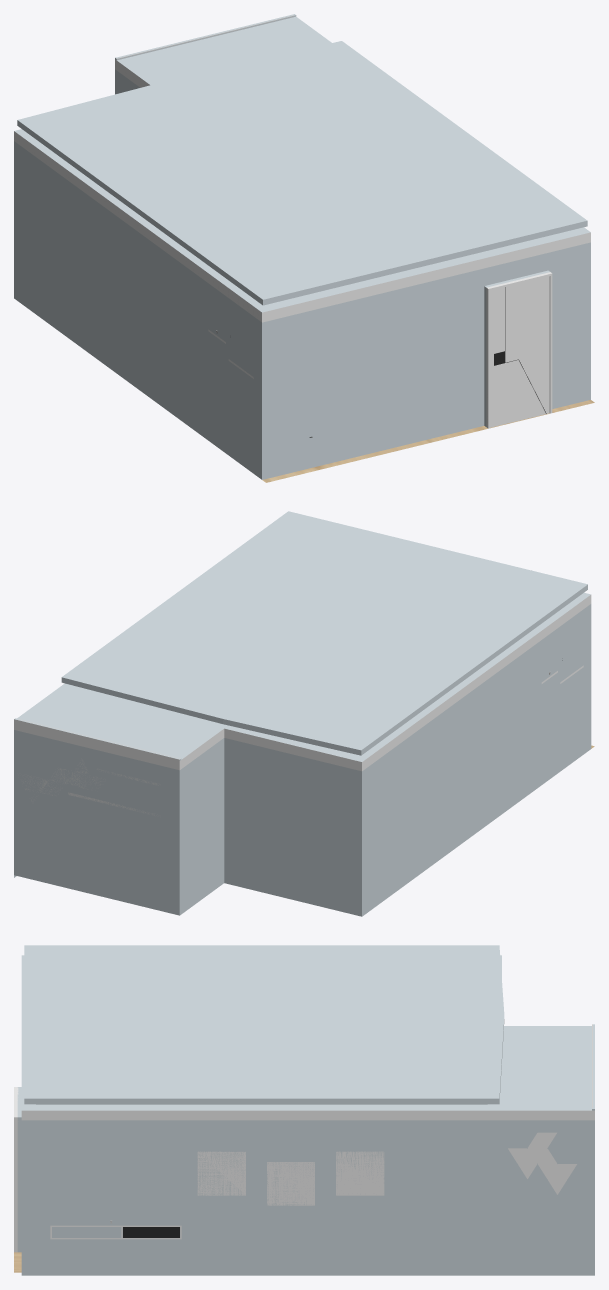
Rendered from Gaming Room.fbx.
3 views of the same model, one above another, from view 1: azimuth 30°, elevation 25°; view 2: azimuth 150°, elevation 25°; view 3: azimuth 270°, elevation 25° (orthographic). The views are drawn at different scales.
Visible parts, largest first — view 1: 天井 1, Wall 6, Wall 5, Door 1, Door 2, Floor, Wall 4; view 2: 天井 1, Wall 5, Wall 2, Wall 3, Wall 4; view 3: Wall 1, 天井 1, Painting 3, Painting 1, Painting 2, 棚 1, Wall 6, Door 2.
Boxes of the visible parts, x1,y1,x2,y2 form: 天井 1: [14, 14, 590, 312]; Wall 6: [262, 232, 590, 479]; Wall 5: [14, 131, 261, 479]; Door 1: [490, 276, 549, 427]; Door 2: [486, 272, 552, 428]; Floor: [262, 400, 594, 482]; Wall 4: [115, 59, 149, 94]; 天井 1: [14, 511, 590, 761]; Wall 5: [362, 595, 591, 916]; Wall 2: [14, 719, 179, 915]; Wall 3: [224, 728, 361, 916]; Wall 4: [179, 729, 224, 915]; Wall 1: [21, 1110, 594, 1275]; 天井 1: [21, 945, 594, 1110]; Painting 3: [336, 1151, 384, 1195]; Painting 1: [197, 1151, 245, 1195]; Painting 2: [267, 1162, 314, 1205]; 棚 1: [50, 1225, 181, 1239]; Wall 6: [17, 1087, 21, 1252]; Door 2: [14, 1087, 18, 1252].
Size of the model in its own units: 880 by 463 by 1387.
